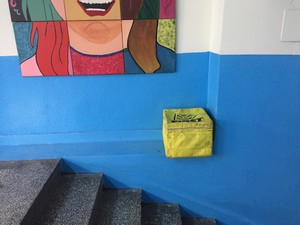cube: (162, 108, 216, 157)
